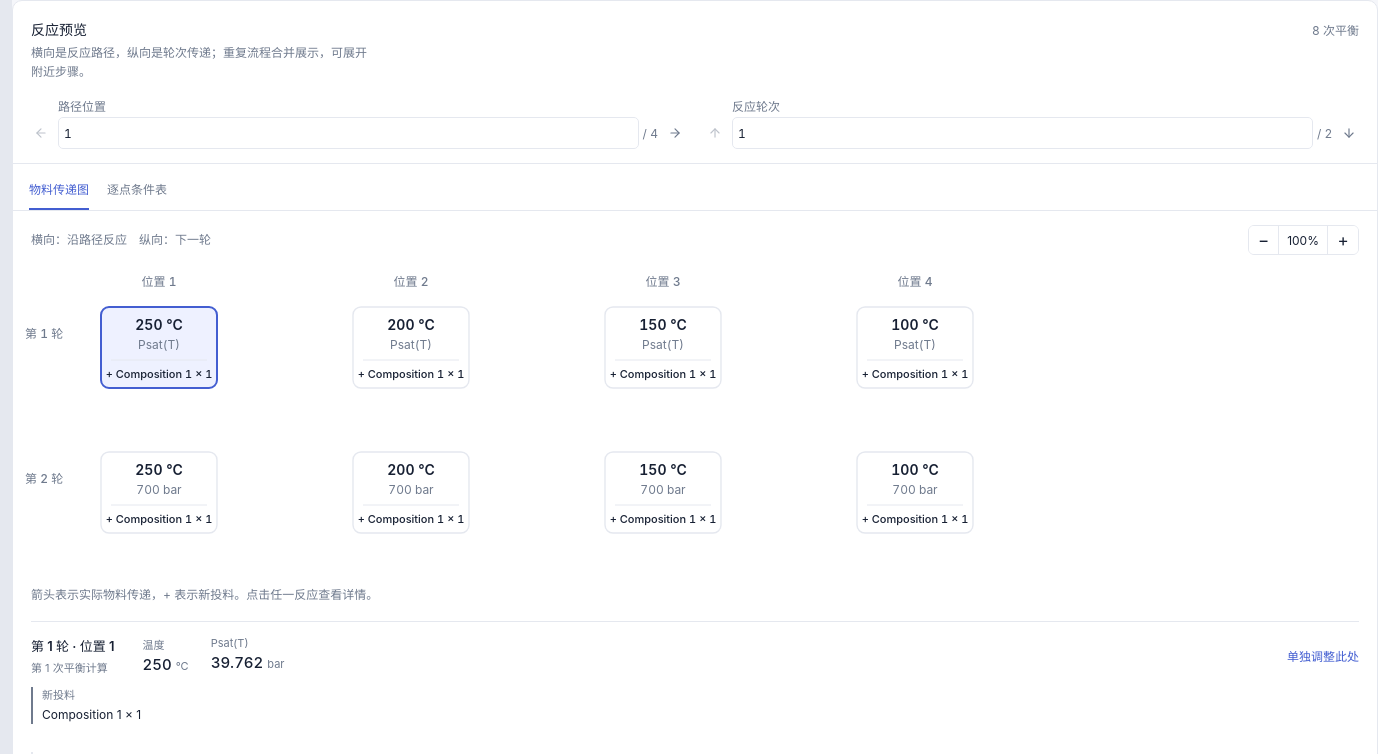
Test: shows actual temperature and pressure at an exact point, with location axes rather than one chosen variable
The width and height of the screenshot is (1378, 754).
Expected: the element showing "250 °C" is shown, [142, 655, 189, 674]
Expected: the element showing "39.762 bar" is shown, [211, 653, 284, 672]
Replace the text in the number field named "预览路径位置" with "3" at (348, 133), box [58, 117, 638, 149]
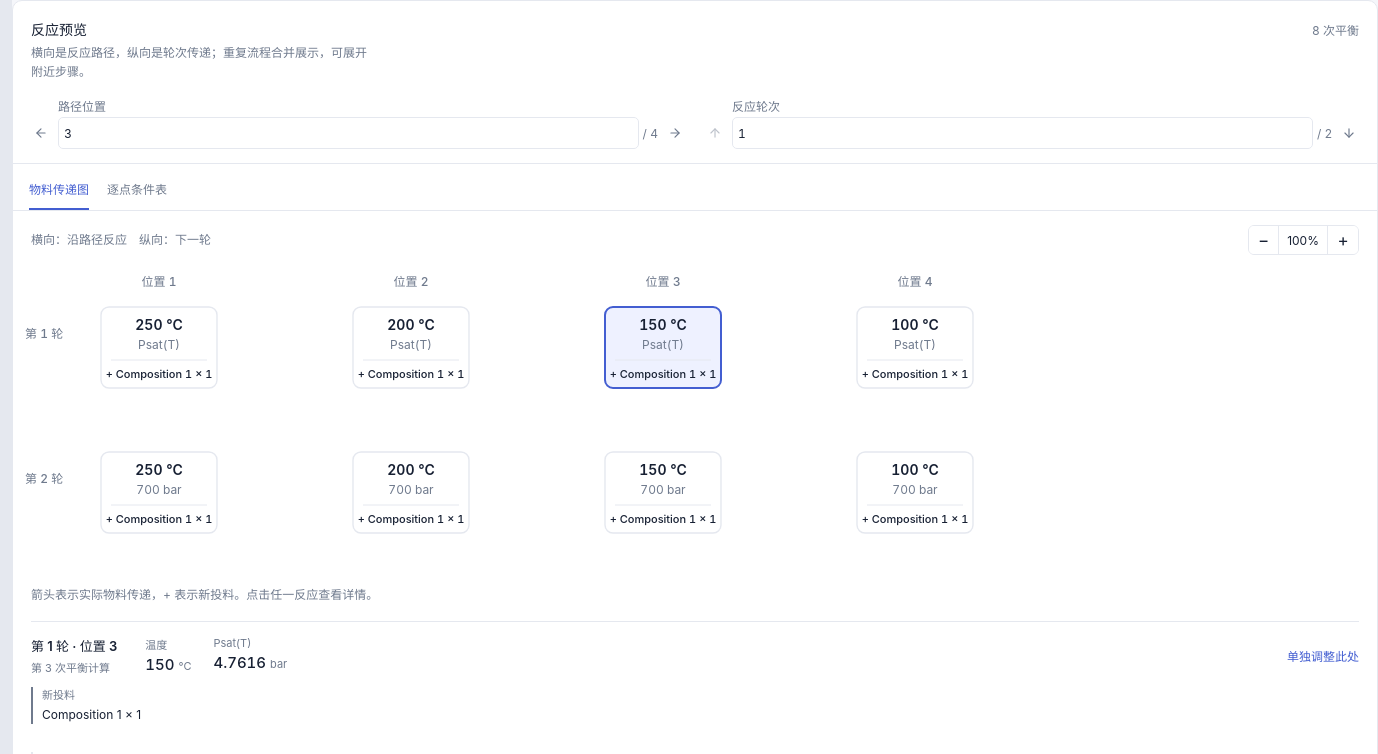
Replace the text in the number field named "预览反应轮次" with "2" at (1022, 133), box [732, 117, 1313, 149]
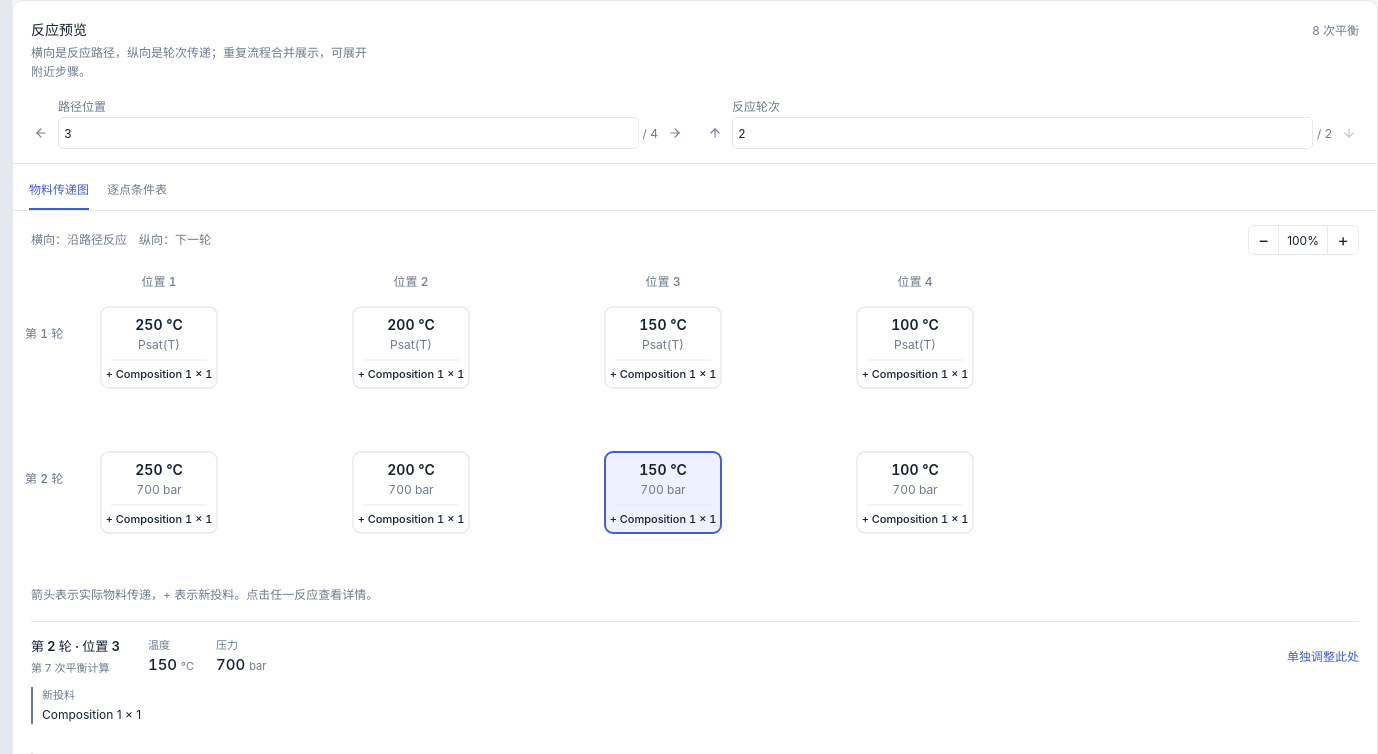
Expected: the element showing "150 °C" is shown, [148, 655, 194, 674]
Expected: the element showing "700 bar" is shown, [216, 655, 266, 674]
Expected: the element with class "reaction-flow__current" no longer shows "Psat(T)"
